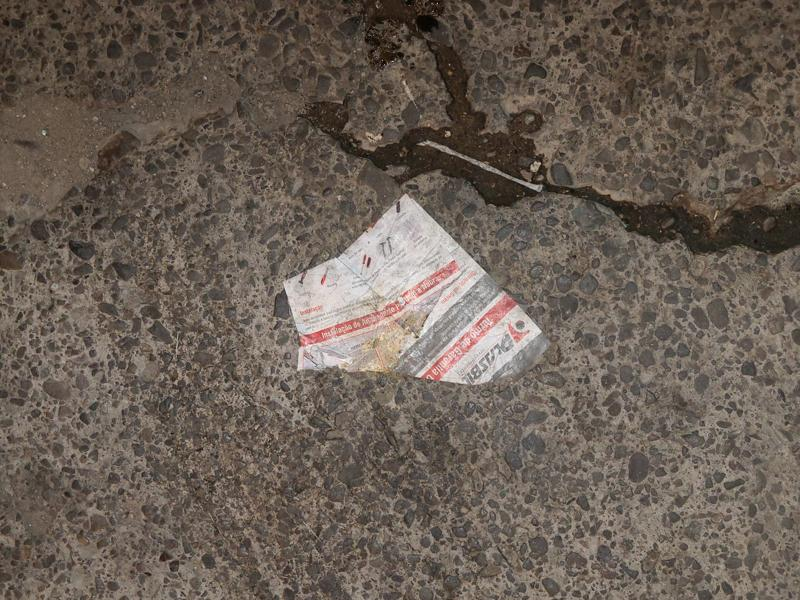papel: (280, 196, 551, 388)
